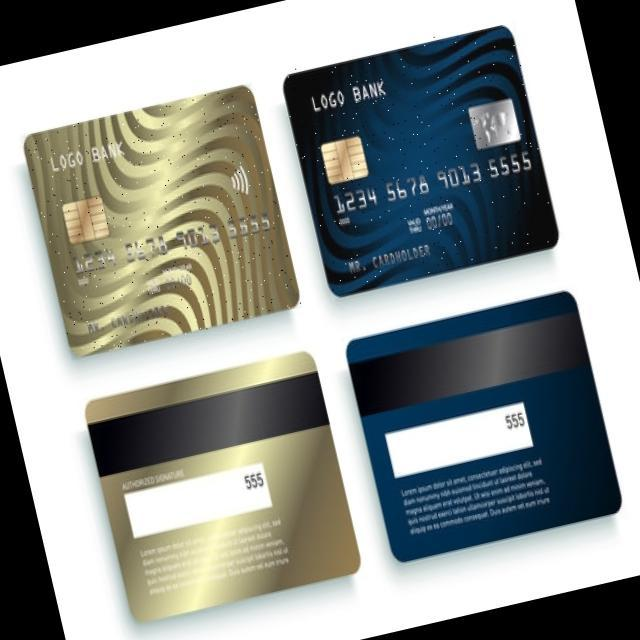payment_card: (281, 23, 559, 298), (344, 289, 622, 563), (23, 83, 299, 357), (83, 350, 361, 622)
